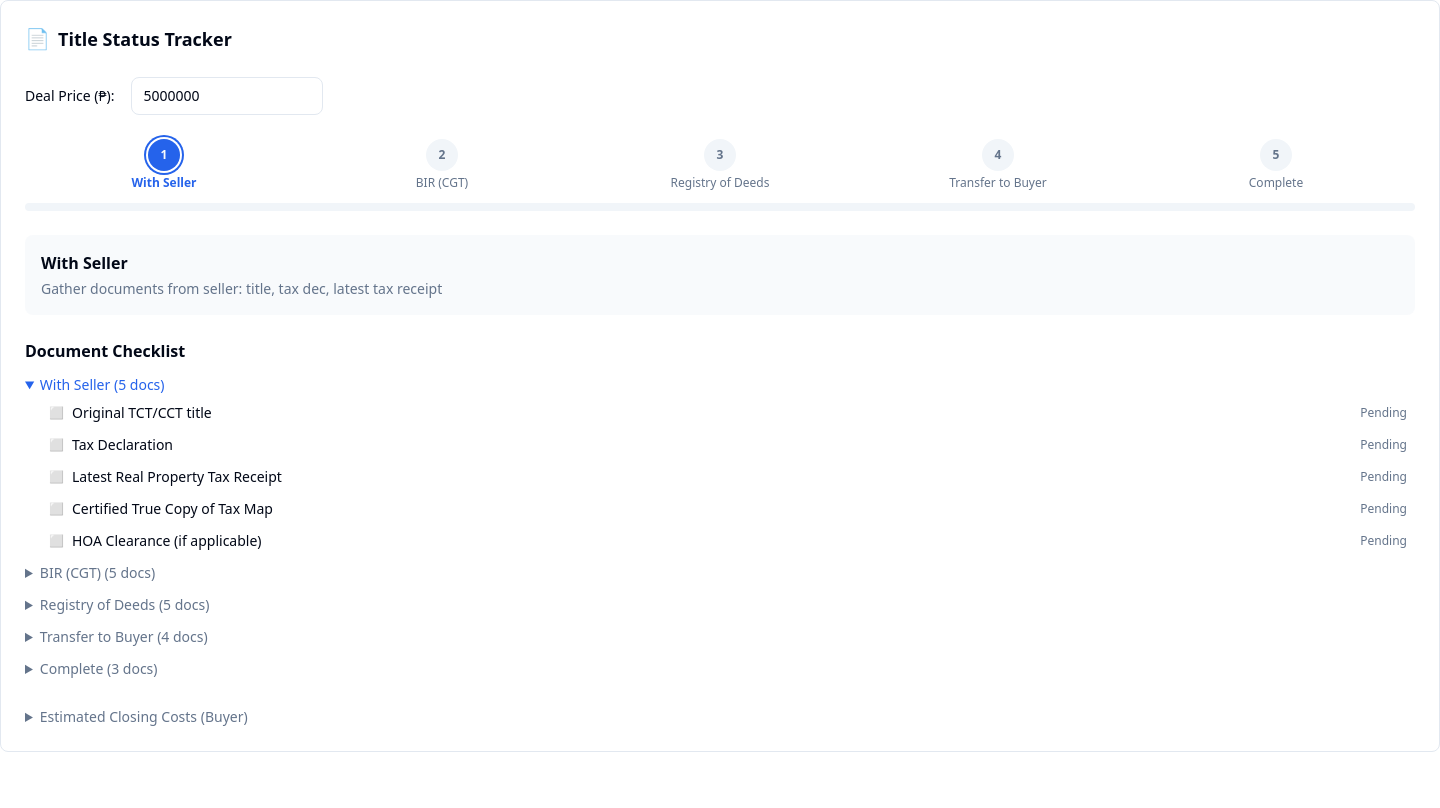
TitleStatusTracker › updates closing costs when deal price changes
Replace the text in the number field showing "5000000" with "10000000" at point(226, 96), box [130,77,322,115]
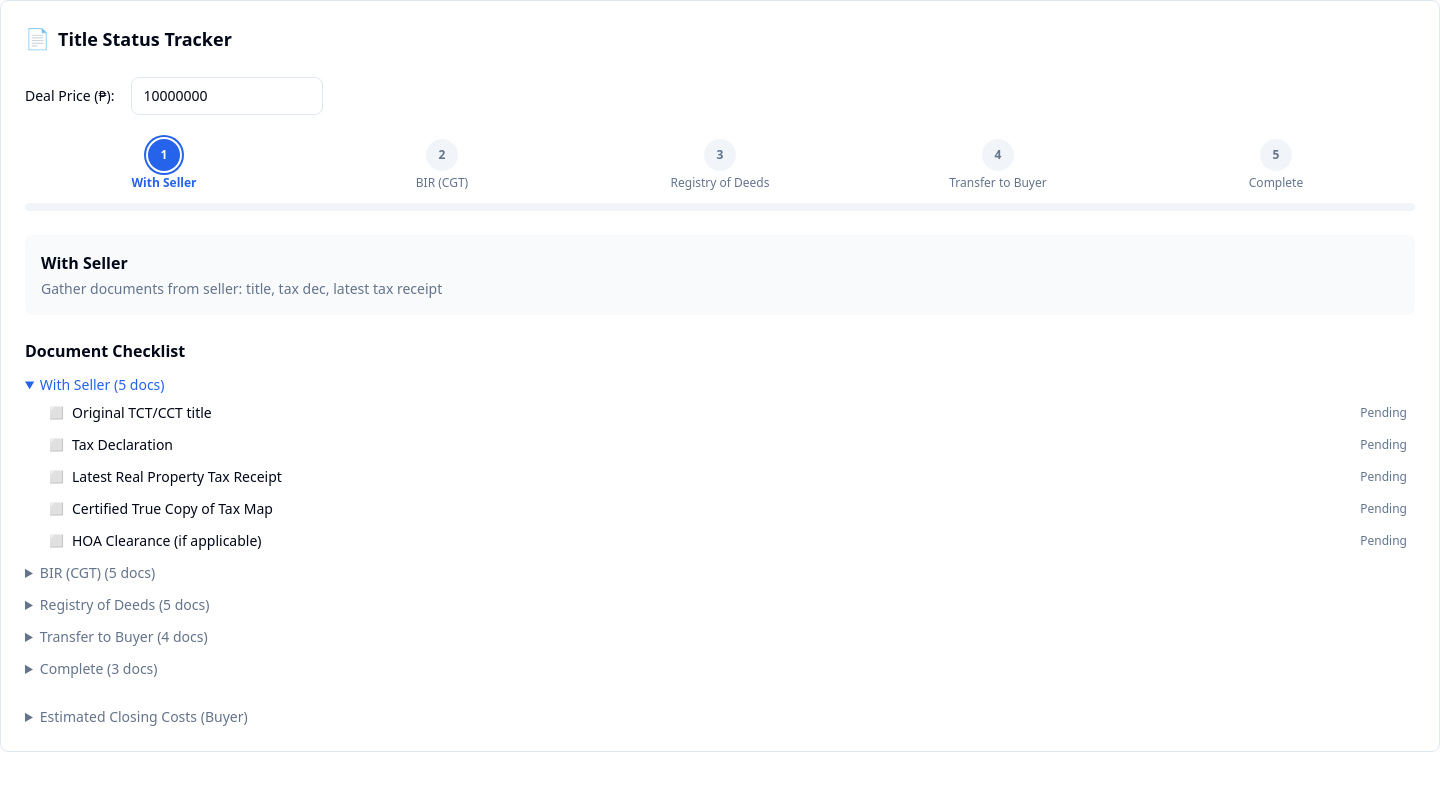
Click the heading "Estimated Closing Costs (Buyer)" at point(144, 716), box [40,707,248,726]
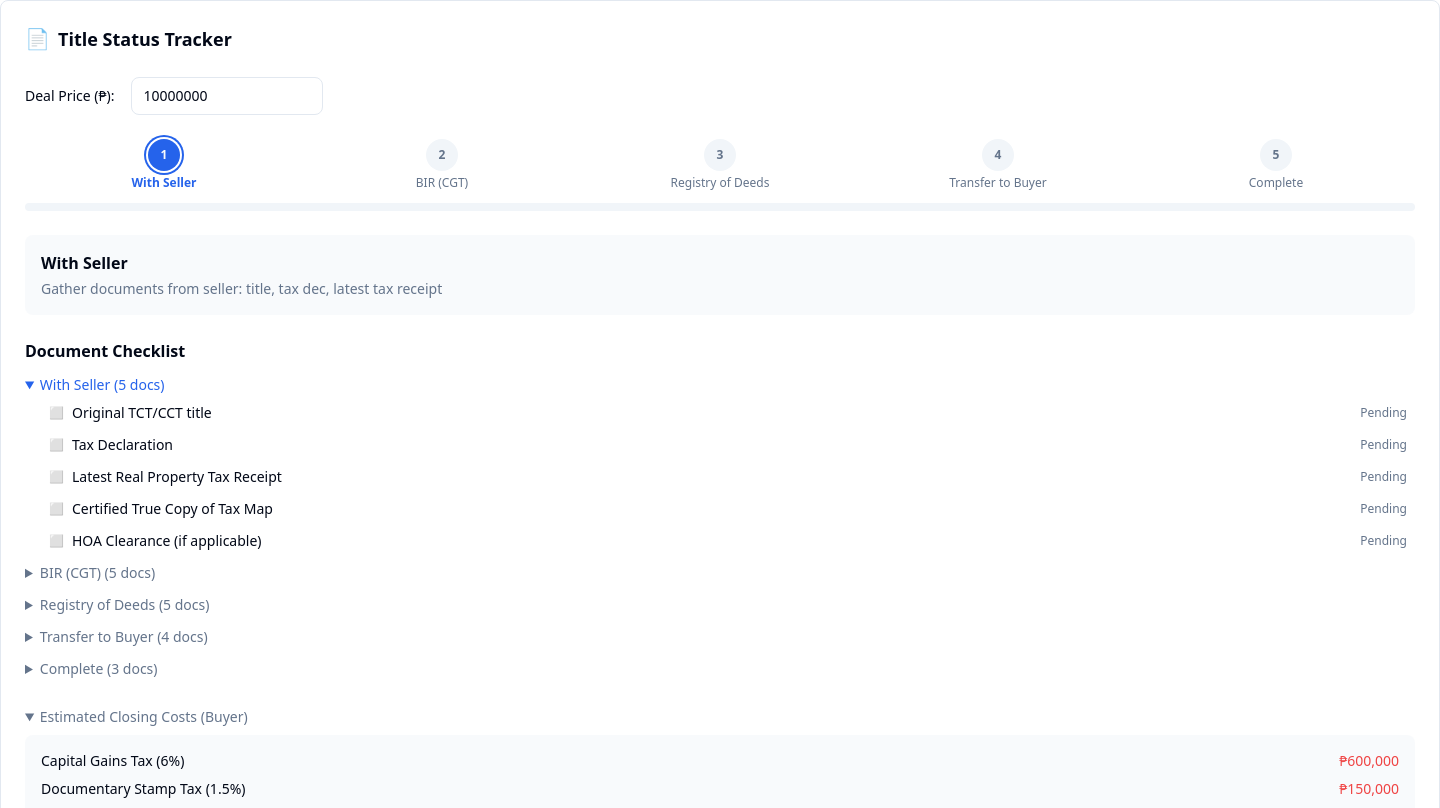
Result: the text "₱600,000" is shown at [1339,751,1399,771]
